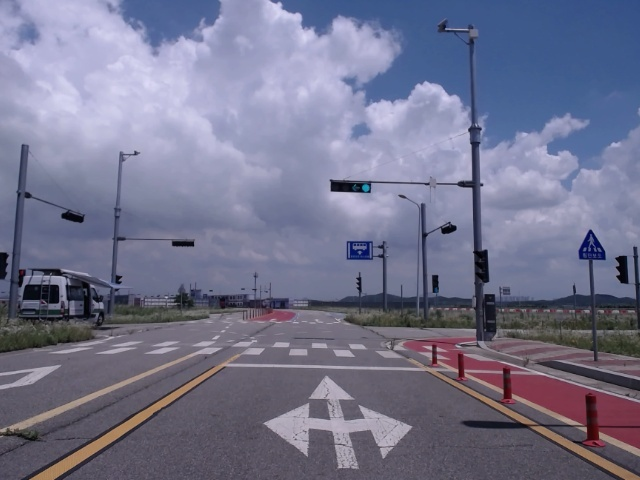all_green_4: (326, 179, 370, 194)
